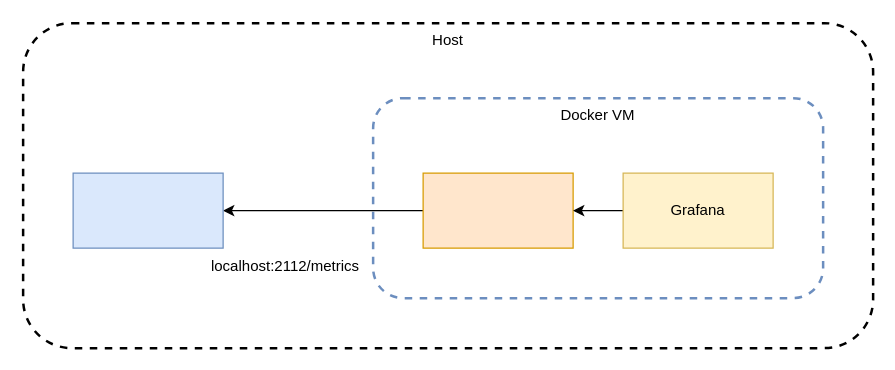
Some shapes in this 895 by 370 pixel diagram are drawn without their labels. Each missing label, with the centre of its shape:
App: the point at 147,210
Prometheus: the point at 497,210
